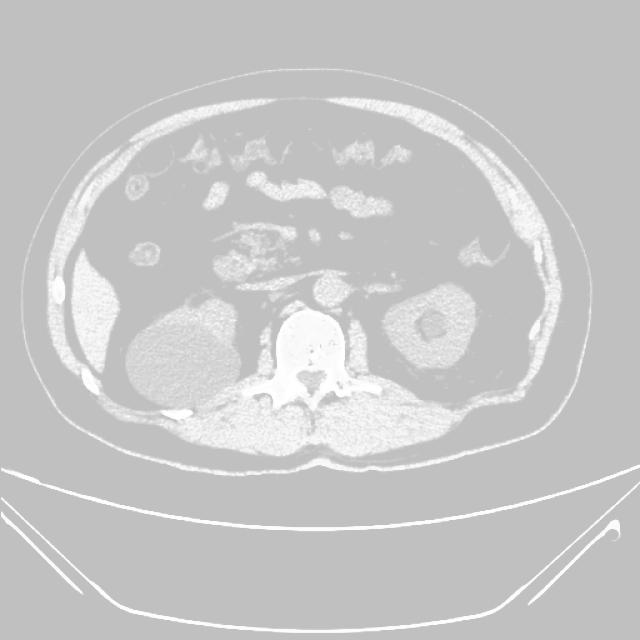cysts: (35, 80, 576, 472)
